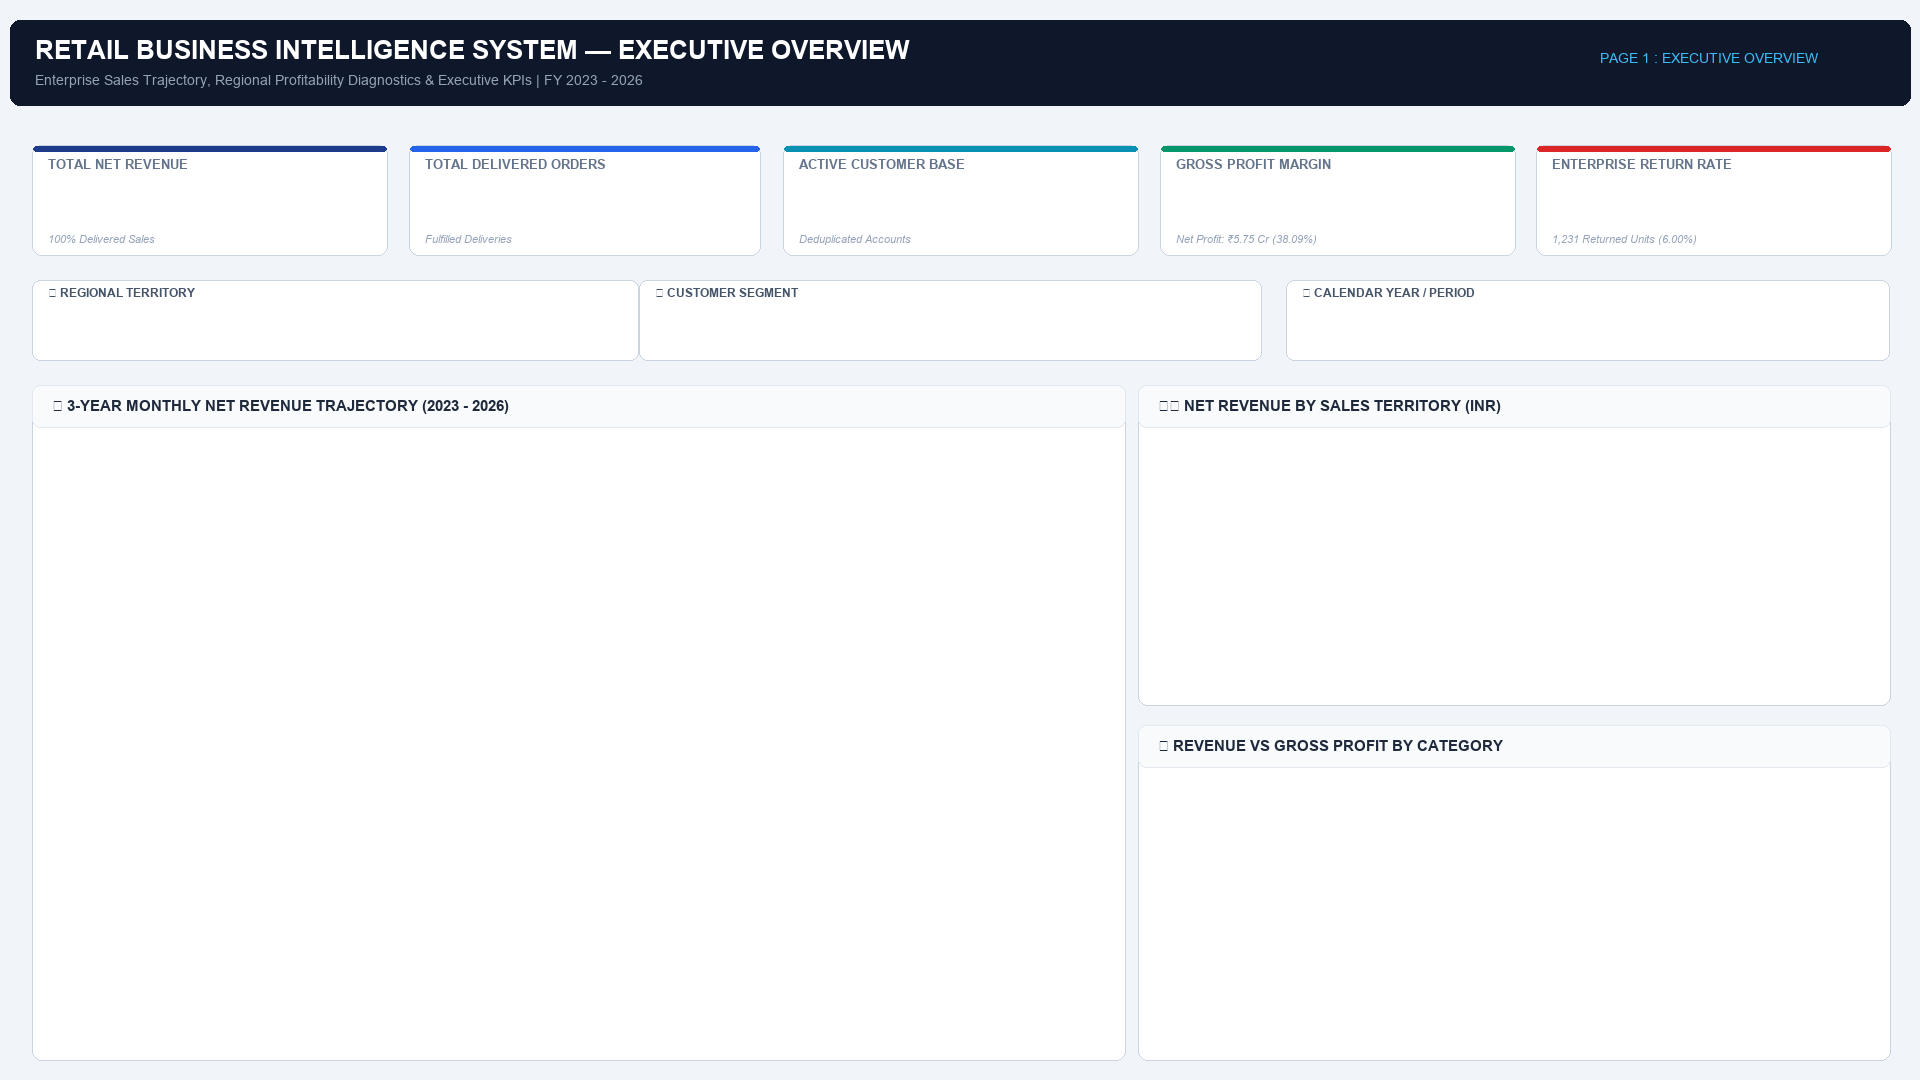

This screenshot's page, from the dashboard's own definition file:
{"tool":"powerbi","page":{"name":"Executive Overview","canvas":[1920,1080],"ordinal":0},"visuals":[{"type":"shape","box":[5.4,23.5,1911,81.4],"z":0},{"type":"textbox","box":[10.9,50.7,1909.2,54.3],"z":1000},{"type":"cardVisual","title":"TOTAL NET REVENUE","fields":{"Data":["_Measures.Total Net Revenue"]},"box":[32.6,161.1,354.7,88.7],"z":2000},{"type":"cardVisual","title":"TOTAL DELIVERED ORDERS","fields":{"Data":["_Measures.Total Delivered Orders"]},"box":[409,161.1,351.1,90.5],"z":3000},{"type":"cardVisual","title":"ACTIVE CUSTOMERS","fields":{"Data":["_Measures.Active Customers"]},"box":[783.6,161.1,354.7,90.5],"z":4000},{"type":"cardVisual","title":"GROSS PROFIT MARGIN","fields":{"Data":["_Measures.Gorss Margin %"]},"box":[1160,161.1,354.7,90.5],"z":5000},{"type":"cardVisual","title":"RETURN RATE","fields":{"Data":["_Measures.Return Rate %"]},"box":[1536.4,161.1,354.7,90.5],"z":6000},{"type":"slicer","fields":{"Values":["Dim_Region.region_name"]},"box":[32.6,300.4,606.2,45.2],"z":7000},{"type":"slicer","fields":{"Values":["Dim_Customers.Segment.1"]},"box":[638.8,300.4,622.5,45.2],"z":8000},{"type":"slicer","fields":{"Values":["Dim_Date.Year"]},"box":[1286.7,300.4,602.6,45.2],"z":9000},{"type":"lineChart","title":"Monthly Net Revenue Trend (2023 - 2026)","fields":{"Category":["Dim_Date.YearMonth"],"Y":["_Measures.Total Net Revenue"]},"box":[32.6,414.4,1093,647.9],"z":10000},{"type":"clusteredBarChart","title":"Net Revenue by Sales Territory (INR)","fields":{"Category":["Dim_Region.region_name"],"Y":["_Measures.Total Net Revenue"]},"box":[1138.3,414.4,751,280.5],"z":11000},{"type":"clusteredColumnChart","title":"Revenue vs Gross Profit by Category","fields":{"Category":["Dim_Products.category"],"Y":["_Measures.Total Net Revenue","_Measures.Gross Profit"]},"box":[1138.3,774.5,751,287.7],"z":12000}]}

Visuals, with their boxes in screenshot pixels (x1, y1, x2, y2), scaled from the page's 1920x1080 canvas onto the 1920x1080 screenshot:
shape: l=5, t=24, r=1916, b=105
textbox: l=11, t=51, r=1919, b=105
"TOTAL NET REVENUE" cardVisual: l=33, t=161, r=387, b=250
"TOTAL DELIVERED ORDERS" cardVisual: l=409, t=161, r=760, b=252
"ACTIVE CUSTOMERS" cardVisual: l=784, t=161, r=1138, b=252
"GROSS PROFIT MARGIN" cardVisual: l=1160, t=161, r=1515, b=252
"RETURN RATE" cardVisual: l=1536, t=161, r=1891, b=252
slicer - Dim_Region.region_name: l=33, t=300, r=639, b=346
slicer - Dim_Customers.Segment.1: l=639, t=300, r=1261, b=346
slicer - Dim_Date.Year: l=1287, t=300, r=1889, b=346
"Monthly Net Revenue Trend (2023 - 2026)" lineChart: l=33, t=414, r=1126, b=1062
"Net Revenue by Sales Territory (INR)" clusteredBarChart: l=1138, t=414, r=1889, b=695
"Revenue vs Gross Profit by Category" clusteredColumnChart: l=1138, t=774, r=1889, b=1062
